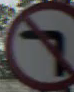Don't turn left: (14, 19, 65, 79)
